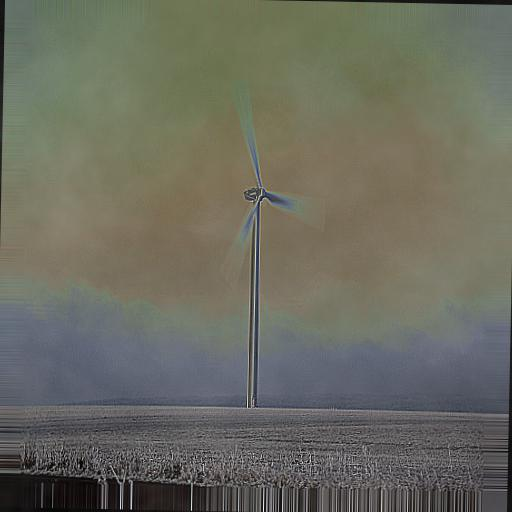wind turbine: (223, 82, 324, 409)
